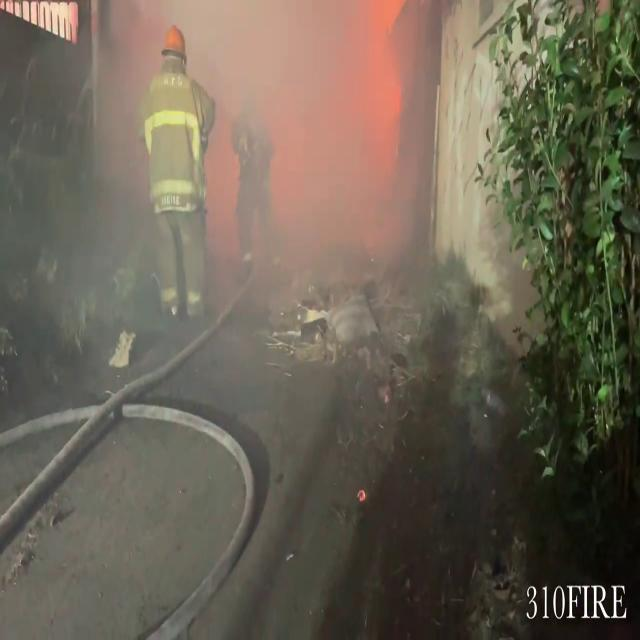Smoke: (32, 0, 512, 398)
